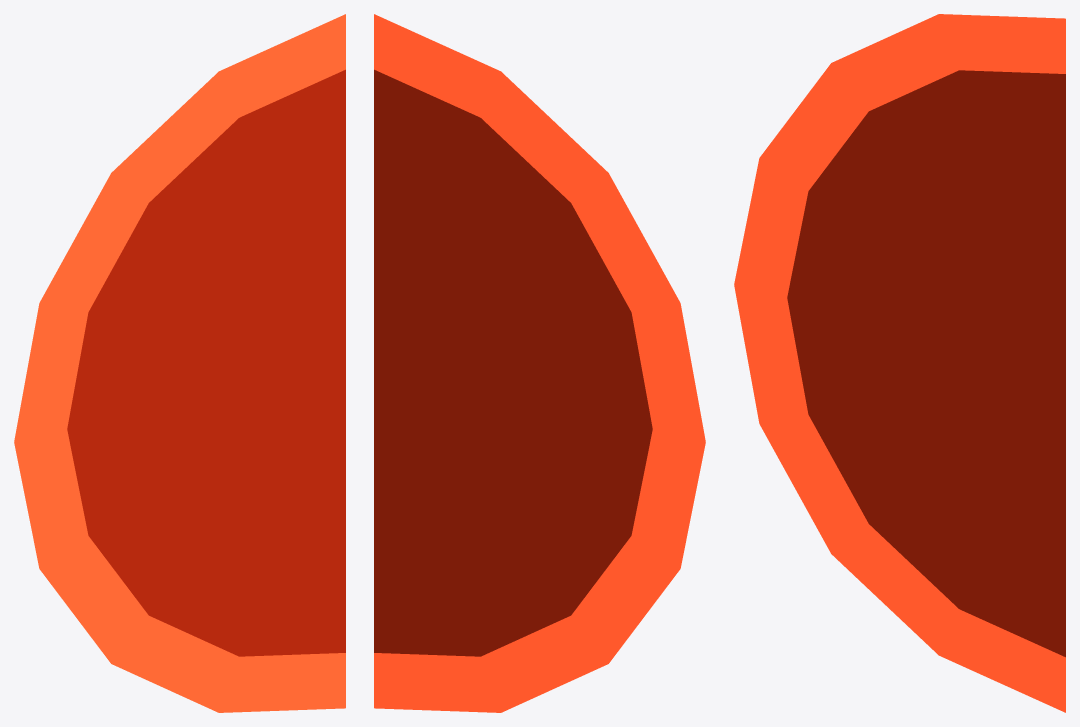
The model's file is name_BG_red_right.glb.
3 views of the same model, side by side, from view 1: azimuth 30°, elevation 25°; view 2: azimuth 150°, elevation 25°; view 3: azimuth 330°, elevation 25° (orthographic).
Parts seen in each view (by area): view 1: name_red_BG_cap_r; view 2: name_red_BG_cap_r; view 3: name_red_BG_cap_r.
Part boxes in pixels (x1,y1,x2,y2): name_red_BG_cap_r: (14, 14, 345, 712); name_red_BG_cap_r: (374, 14, 705, 712); name_red_BG_cap_r: (734, 14, 1065, 712).
Size of the model in its own units: 0.3618 by 0.7236 by 7.43e-08.
